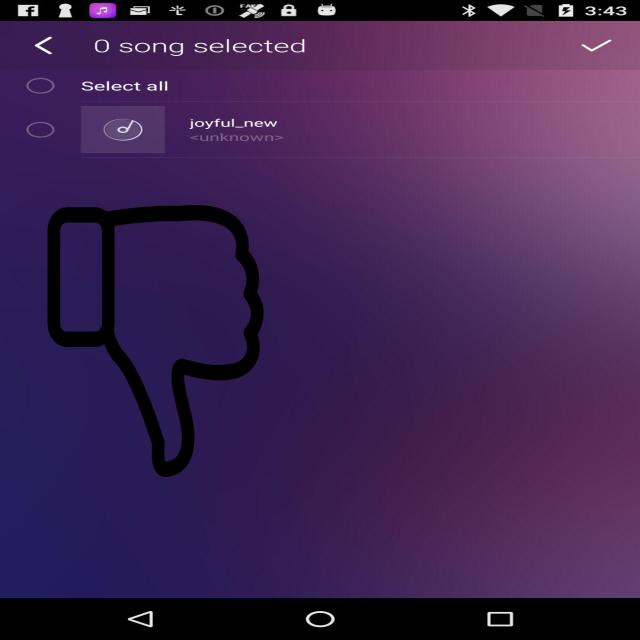obstruction: (45, 205, 266, 477)
